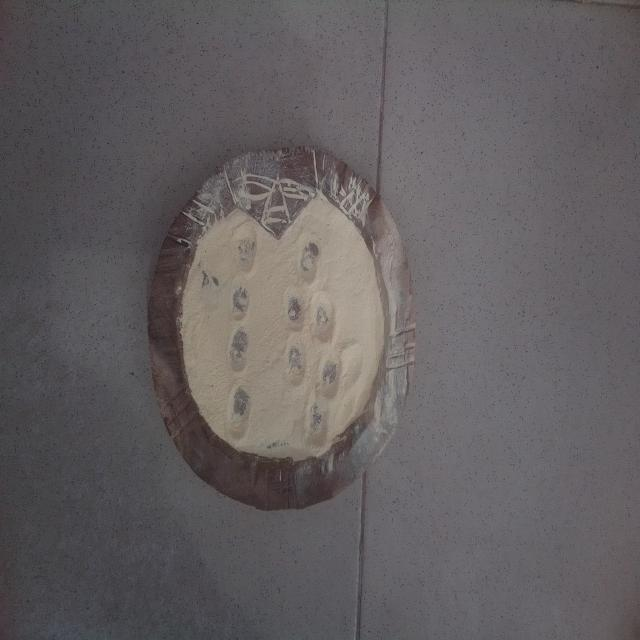double: (284, 342, 344, 395), (282, 284, 338, 340)
single: (224, 379, 255, 441), (302, 396, 330, 448), (233, 226, 258, 282), (297, 234, 321, 288), (226, 327, 250, 376), (228, 282, 253, 325)
